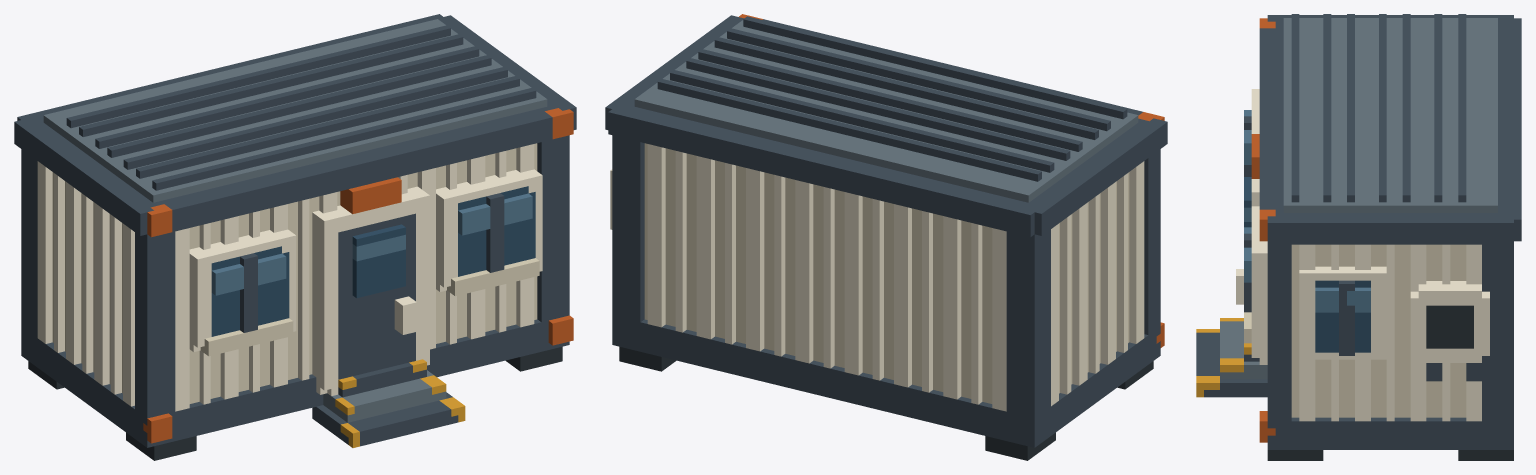
Rendered from site_office.glb.
3 renders of one model, left to right at view 1: azimuth 30°, elevation 25°; view 2: azimuth 150°, elevation 25°; view 3: azimuth 270°, elevation 25°, orthographic. The views are drawn at different scales.
Parts seen in each view (by area): view 1: site_office; view 2: site_office; view 3: site_office.
Boxes of the visible parts, x1=… form: site_office: x1=14, y1=14, x2=576, y2=460; site_office: x1=605, y1=14, x2=1167, y2=460; site_office: x1=1196, y1=14, x2=1521, y2=460.
Size of the model in its own units: 6.3 by 3.6 by 4.1.
